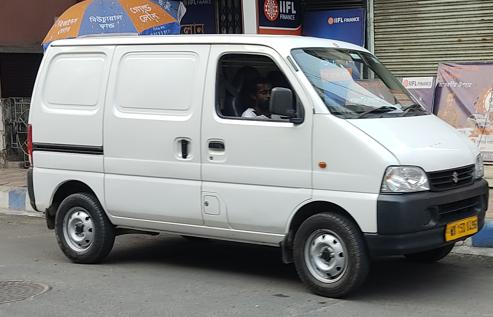Auto: (19, 28, 493, 292)
